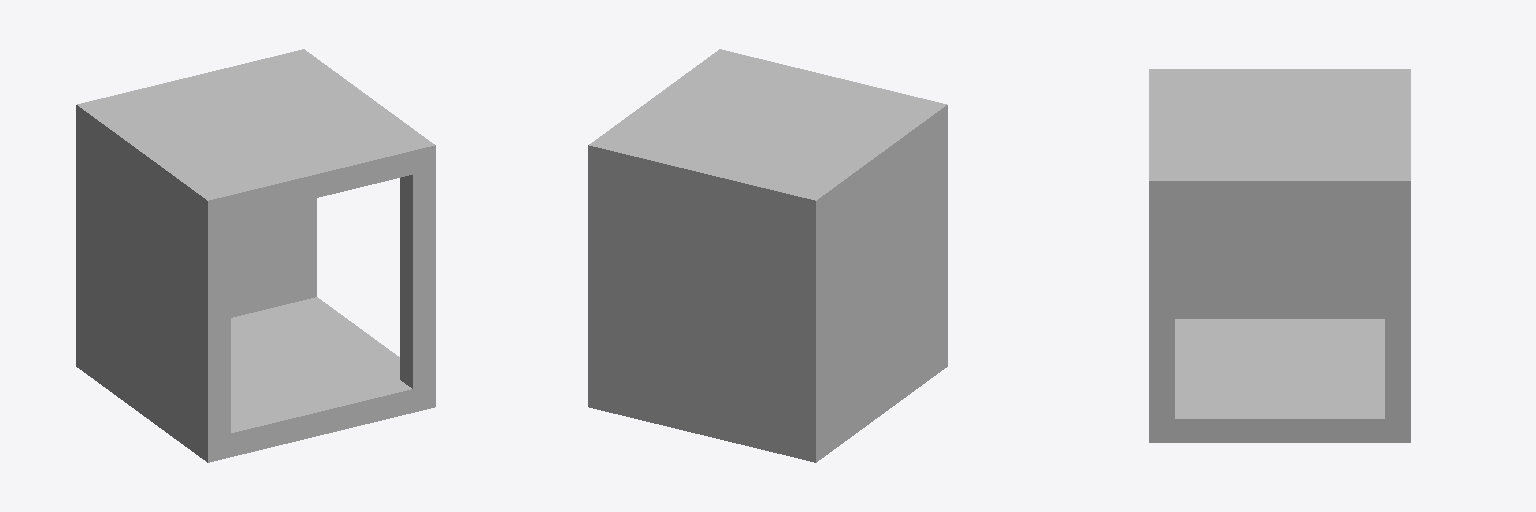
The model's file is wallSet_9.obj.
3 renders of one model, left to right at view 1: azimuth 30°, elevation 25°; view 2: azimuth 150°, elevation 25°; view 3: azimuth 270°, elevation 25°, orthographic.
Parts seen in each view (by area): view 1: wallSet_9_Cube.002; view 2: wallSet_9_Cube.002; view 3: wallSet_9_Cube.002.
Part boxes in pixels (x1,y1,x2,y2): wallSet_9_Cube.002: (76,49,435,462); wallSet_9_Cube.002: (588,49,947,462); wallSet_9_Cube.002: (1149,69,1410,442).
Bounding box in the file's own units: 2 × 2.2 × 2.